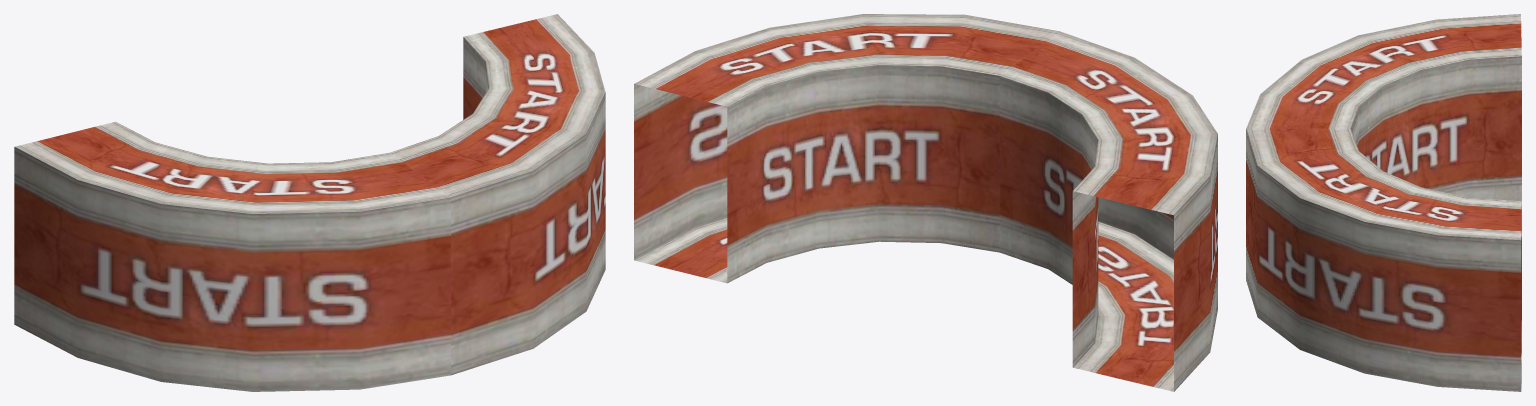
File: Start Obj curve.fbx
3 renders of one model, left to right at view 1: azimuth 30°, elevation 25°; view 2: azimuth 150°, elevation 25°; view 3: azimuth 270°, elevation 25°, orthographic. The views are drawn at different scales.
Parts seen in each view (by area): view 1: Start Obj curve; view 2: Start Obj curve; view 3: Start Obj curve.
Boxes of the visible parts, box(x1,y1,x2,y2) form: Start Obj curve: box(14, 14, 605, 391); Start Obj curve: box(634, 14, 1217, 391); Start Obj curve: box(1246, 14, 1521, 391).
Bounding box in the file's own units: 0.8858 × 0.277 × 0.4562.
Materials: 1 (1 with a texture image).
